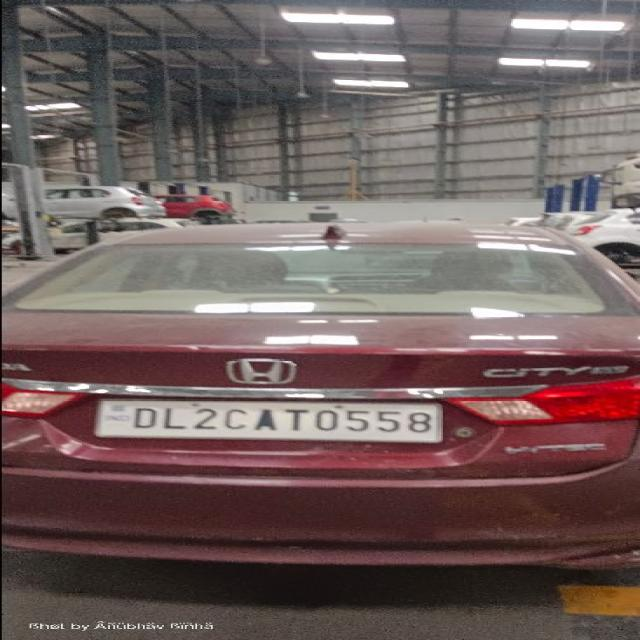license_plate: (90, 396, 444, 444)
